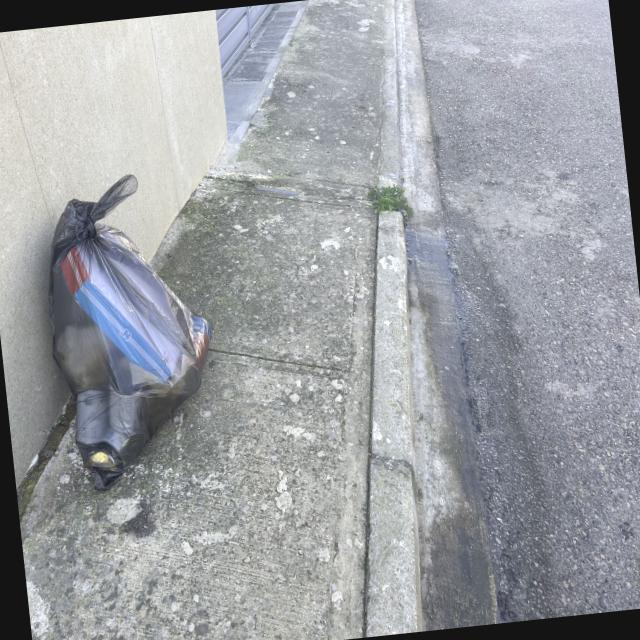black_bag: (29, 162, 232, 496)
